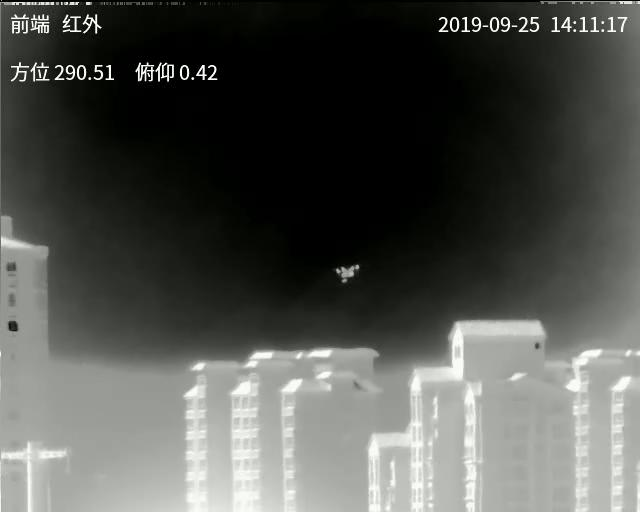uav: (332, 260, 360, 284)
